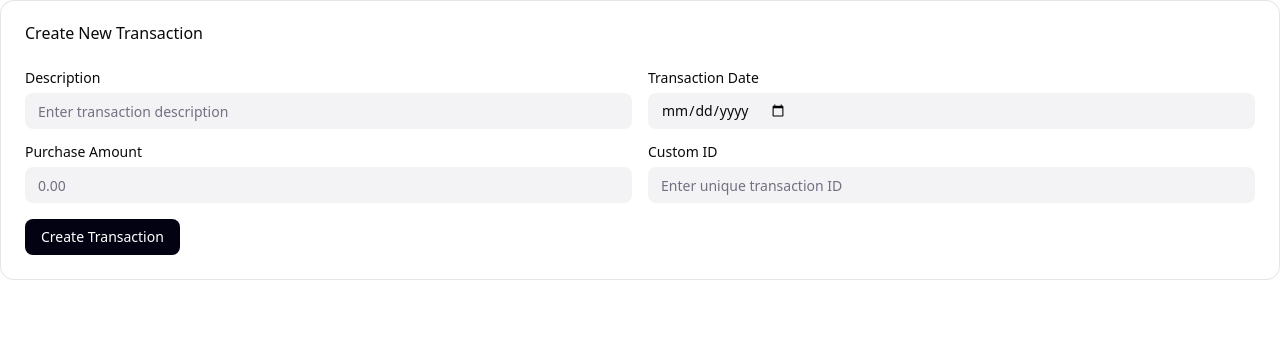
Scenario: TransactionForm › shows validation error for duplicate custom ID
Type "existing-id-1" into the field labelled "Custom ID" at [952, 185], box [648, 167, 1255, 203]
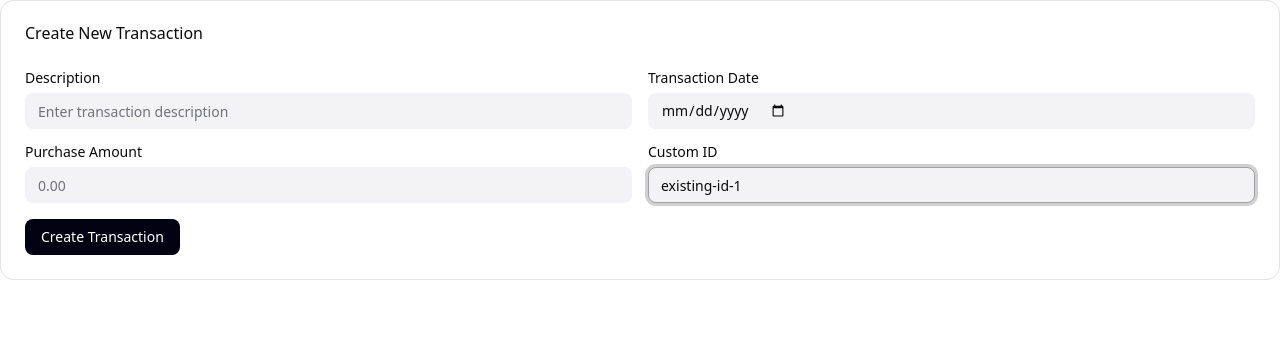
Click the button "Create Transaction" at [102, 237], box [25, 219, 180, 255]
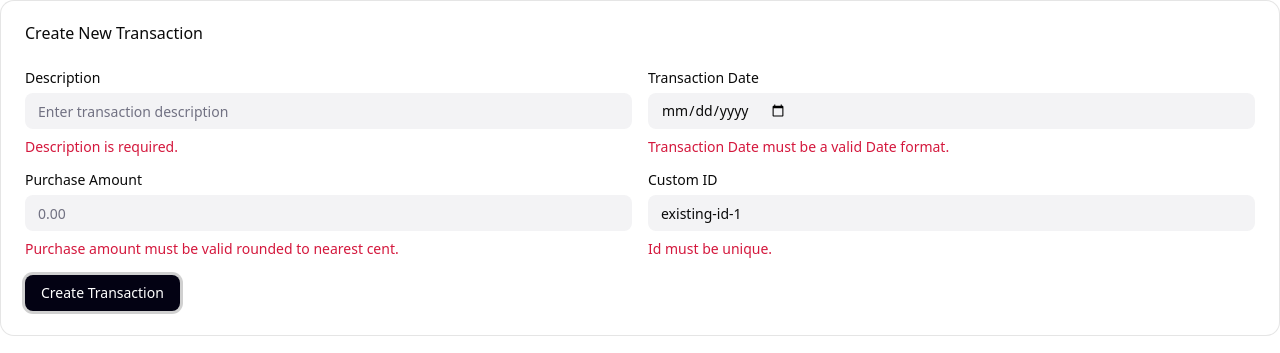
Now the text "Id must be unique." is shown, box [648, 239, 772, 258]
